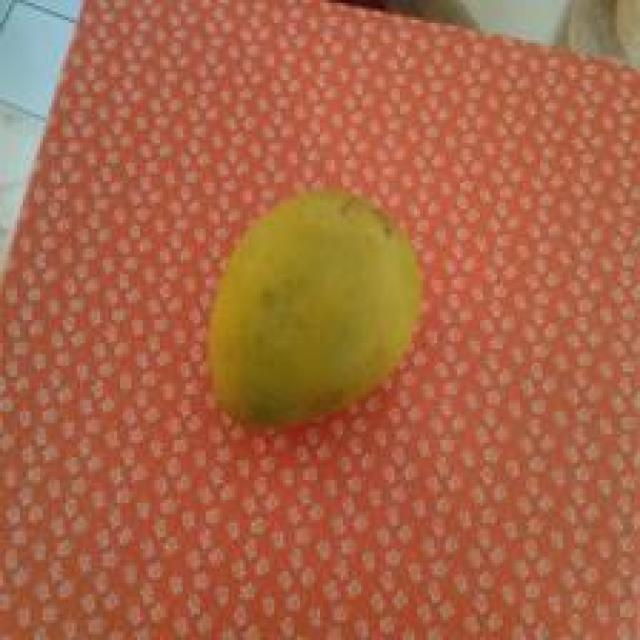Mango: (207, 186, 421, 432)
